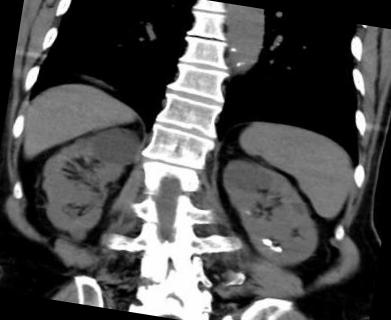Tas_Var: (259, 236, 272, 246), (273, 245, 284, 252), (242, 209, 252, 215), (269, 244, 274, 249)
